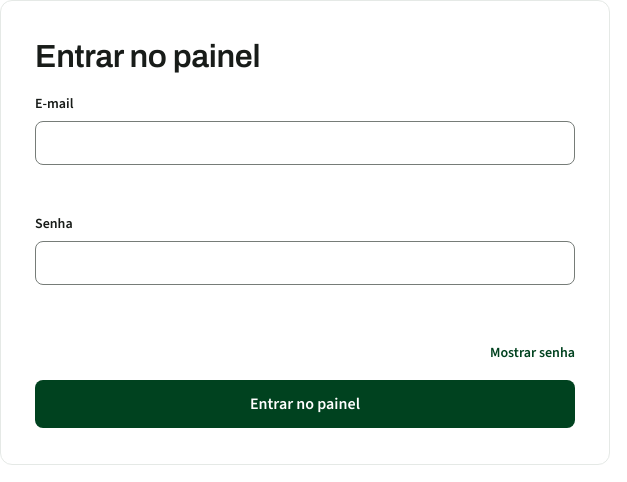
Scenario: LoginForm — validação acessível ADM-01 › exibe os erros do Figma ao enviar campos vazios
Click the button "Entrar no painel". click: x=305, y=404
box: [35, 380, 575, 428]
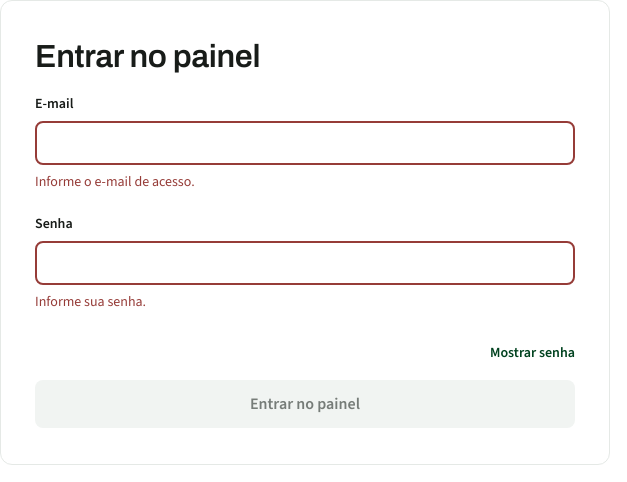
Now the text "Informe o e-mail de acesso." is shown, box [35, 172, 195, 191]
Now the text "Informe sua senha." is shown, box [35, 292, 146, 311]
Now the button "Entrar no painel" is disabled, box [35, 380, 575, 428]
